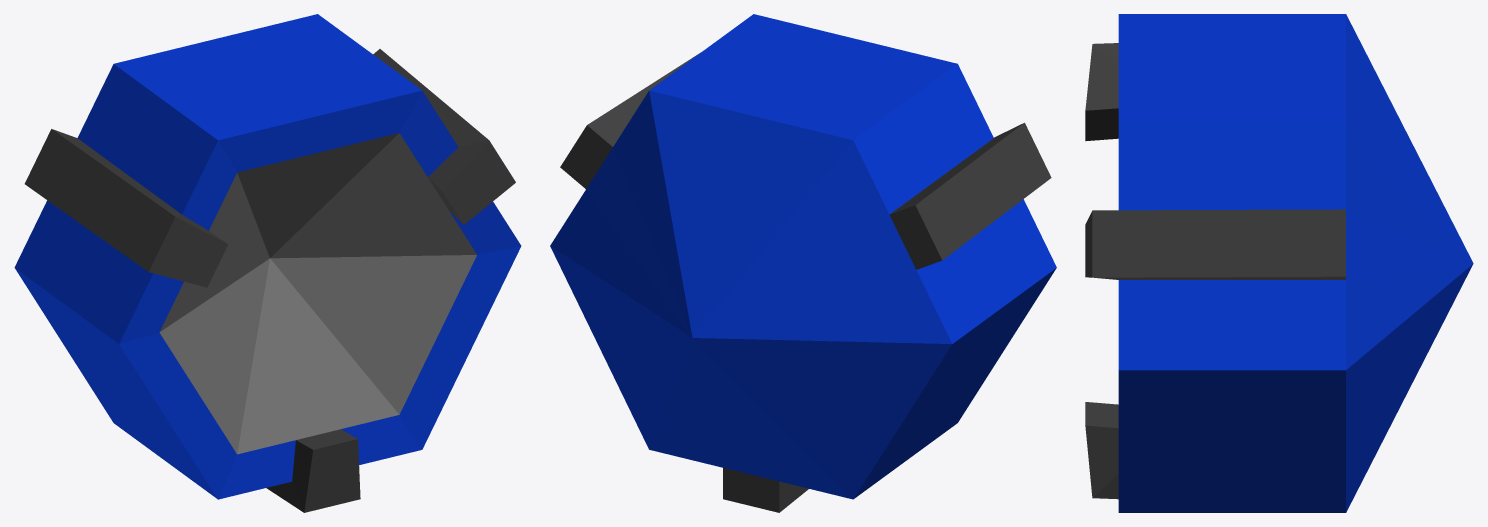
The model's file is BossLaserCannonsV2.FBX.
The picture shows the model from 3 angles, left to right: view 1: azimuth 30°, elevation 25°; view 2: azimuth 150°, elevation 25°; view 3: azimuth 270°, elevation 25°; orthographic projection. The views are drawn at different scales.
Parts seen in each view (by area): view 1: Object003; view 2: Object003; view 3: Object003.
Boxes of the visible parts, <box> form: Object003: <box>14,14,521,512</box>; Object003: <box>550,14,1056,512</box>; Object003: <box>1085,14,1473,512</box>.
Size of the model in its own units: 269 by 207 by 250.
